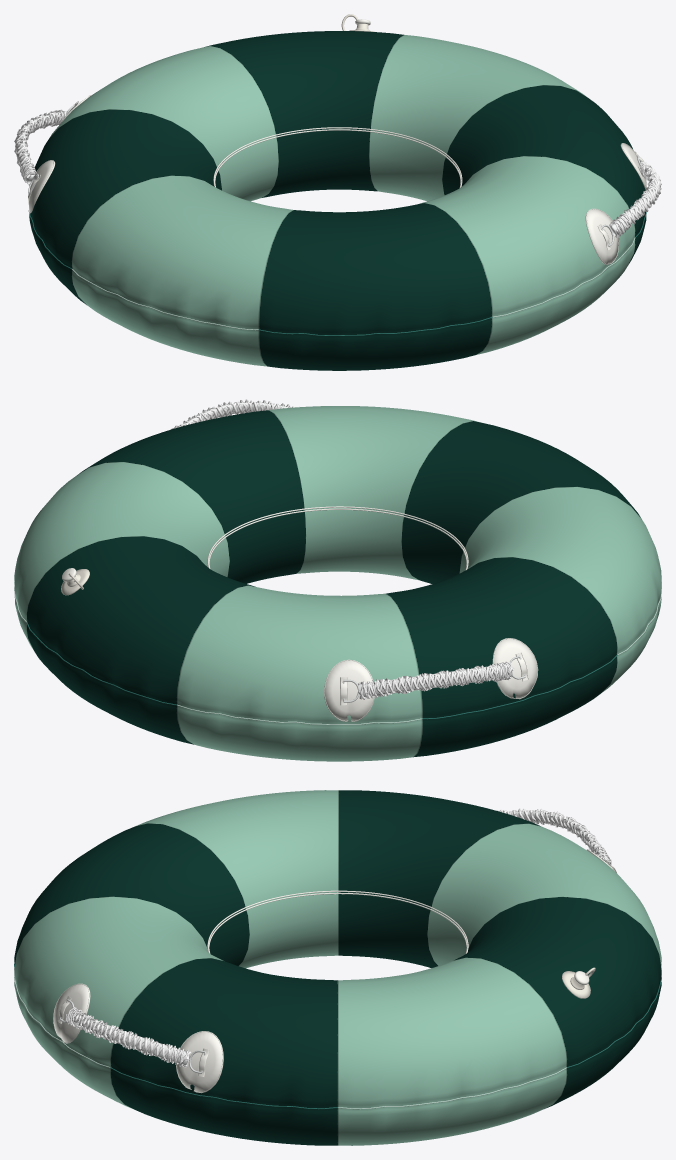
File: striped_pool_float_game.glb
The picture shows the model from 3 angles, top to bottom: view 1: azimuth 30°, elevation 25°; view 2: azimuth 150°, elevation 25°; view 3: azimuth 270°, elevation 25°; orthographic projection. The views are drawn at different scales.
Visible parts, largest first — view 1: Inflatable ring | eight alternating panels, Float | ivory pvc, Float | white rope, Float | mint weld, Float | rope shadow; view 2: Inflatable ring | eight alternating panels, Float | ivory pvc, Float | white rope, Float | rope shadow, Float | green weld, Float | mint weld; view 3: Inflatable ring | eight alternating panels, Float | ivory pvc, Float | white rope, Float | rope shadow, Float | mint weld, Float | green weld, Float | valve.
Boxes of the visible parts, bbox=[...] form: Inflatable ring | eight alternating panels: bbox=[29, 31, 646, 370]; Float | ivory pvc: bbox=[28, 19, 646, 264]; Float | white rope: bbox=[14, 109, 661, 237]; Float | mint weld: bbox=[72, 238, 635, 330]; Float | rope shadow: bbox=[19, 112, 656, 235]; Inflatable ring | eight alternating panels: bbox=[14, 406, 661, 761]; Float | ivory pvc: bbox=[62, 506, 538, 721]; Float | white rope: bbox=[171, 399, 513, 699]; Float | rope shadow: bbox=[183, 402, 512, 696]; Float | green weld: bbox=[26, 622, 617, 719]; Float | mint weld: bbox=[14, 580, 661, 724]; Inflatable ring | eight alternating panels: bbox=[14, 790, 661, 1145]; Float | ivory pvc: bbox=[53, 849, 617, 1093]; Float | white rope: bbox=[65, 808, 611, 1067]; Float | rope shadow: bbox=[73, 811, 608, 1065]; Float | mint weld: bbox=[14, 962, 661, 1109]; Float | green weld: bbox=[14, 962, 661, 1109]; Float | valve: bbox=[562, 967, 595, 998].
Bounding box in the file's own units: 1.11 × 0.2686 × 1.11.
9 materials, 1 textured.
